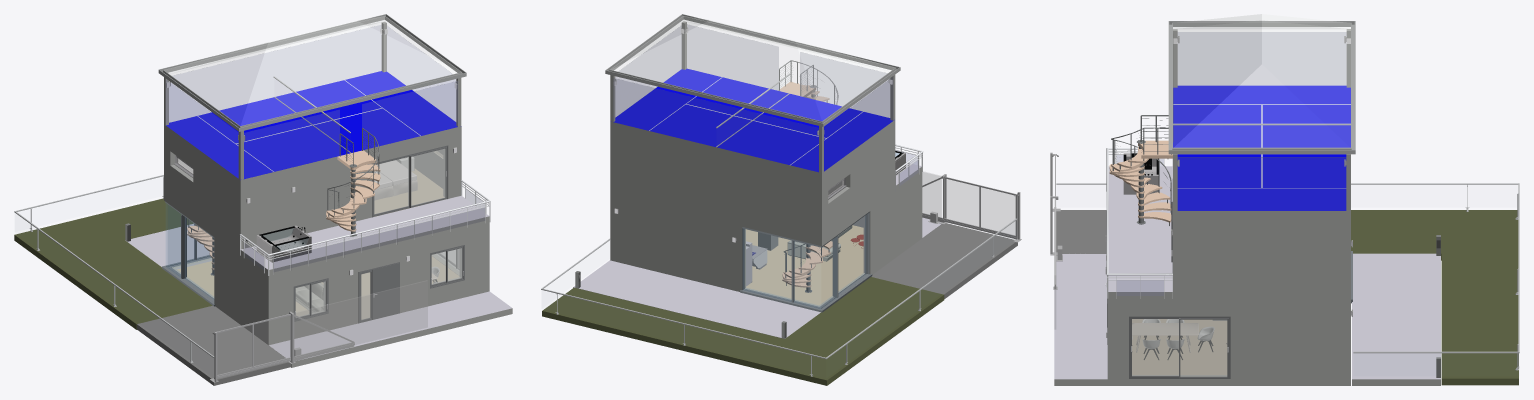
File: house.glb
The picture shows the model from 3 angles, left to right: view 1: azimuth 30°, elevation 25°; view 2: azimuth 150°, elevation 25°; view 3: azimuth 270°, elevation 25°; orthographic projection. The views are drawn at different scales.
Parts seen in each view (by area): view 1: Wall Murs <256666 mur maison nouveau<, FamilyInstance Portes Doors_Swing_PIERRET_Porte_Entree_2V <3; view 2: Wall Murs <256666 mur maison nouveau<, FamilyInstance Portes Doors_Swing_PIERRET_Porte_Entree_2V <3; view 3: Wall Murs <256666 mur maison nouveau<, FamilyInstance Portes Doors_Swing_PIERRET_Porte_Entree_2V <3.
Part boxes in pixels (<box>): Wall Murs <256666 mur maison nouveau<: <box>14,14,512,385</box>; FamilyInstance Portes Doors_Swing_PIERRET_Porte_Entree_2V <3: <box>164,16,484,374</box>; Wall Murs <256666 mur maison nouveau<: <box>541,14,1021,385</box>; FamilyInstance Portes Doors_Swing_PIERRET_Porte_Entree_2V <3: <box>611,16,1015,255</box>; Wall Murs <256666 mur maison nouveau<: <box>1050,21,1519,385</box>; FamilyInstance Portes Doors_Swing_PIERRET_Porte_Entree_2V <3: <box>1054,14,1350,376</box>.
Size of the model in its own units: 13.73 by 10.56 by 15.82.
2 materials, 2 textured.
